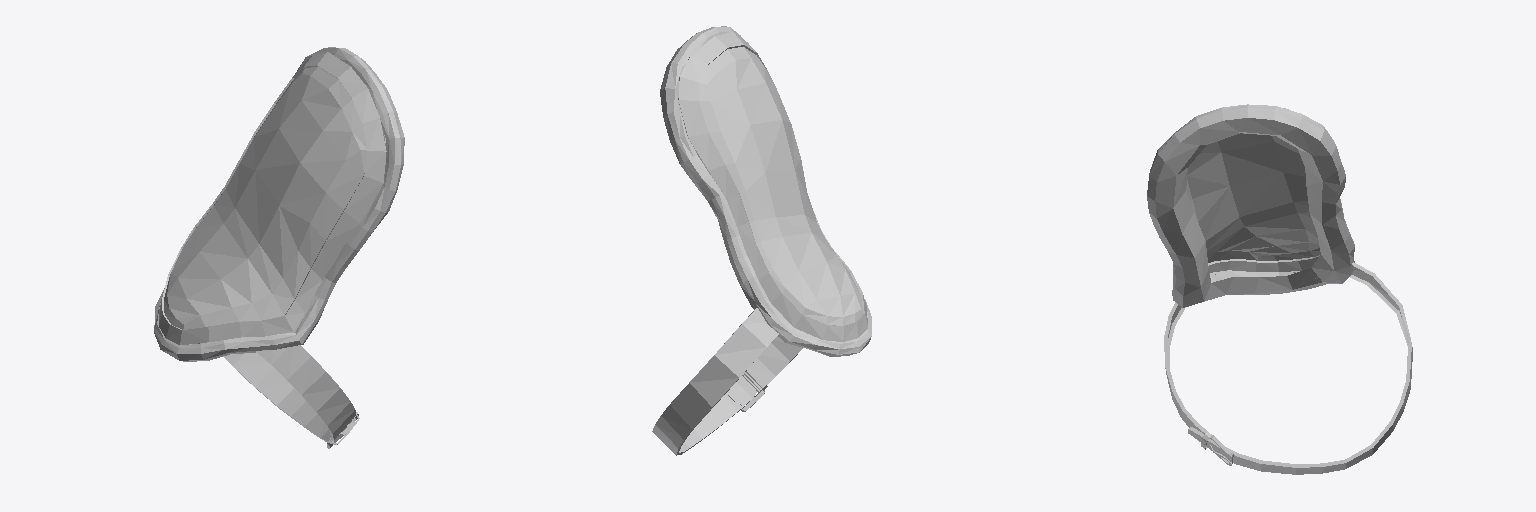
The model's file is protection_bras_droit.obj.
The picture shows the model from 3 angles: view 1: azimuth 30°, elevation 25°; view 2: azimuth 150°, elevation 25°; view 3: azimuth 270°, elevation 25°; orthographic projection.
Parts seen in each view (by area): view 1: Soi_SimpleArmor.008_Plane.008; view 2: Soi_SimpleArmor.008_Plane.008; view 3: Soi_SimpleArmor.008_Plane.008.
Boxes of the visible parts, x1=… form: Soi_SimpleArmor.008_Plane.008: x1=154, y1=47, x2=404, y2=448; Soi_SimpleArmor.008_Plane.008: x1=652, y1=26, x2=871, y2=455; Soi_SimpleArmor.008_Plane.008: x1=1147, y1=104, x2=1412, y2=474.
Bounding box in the file's own units: 0.1145 × 0.2236 × 0.141.